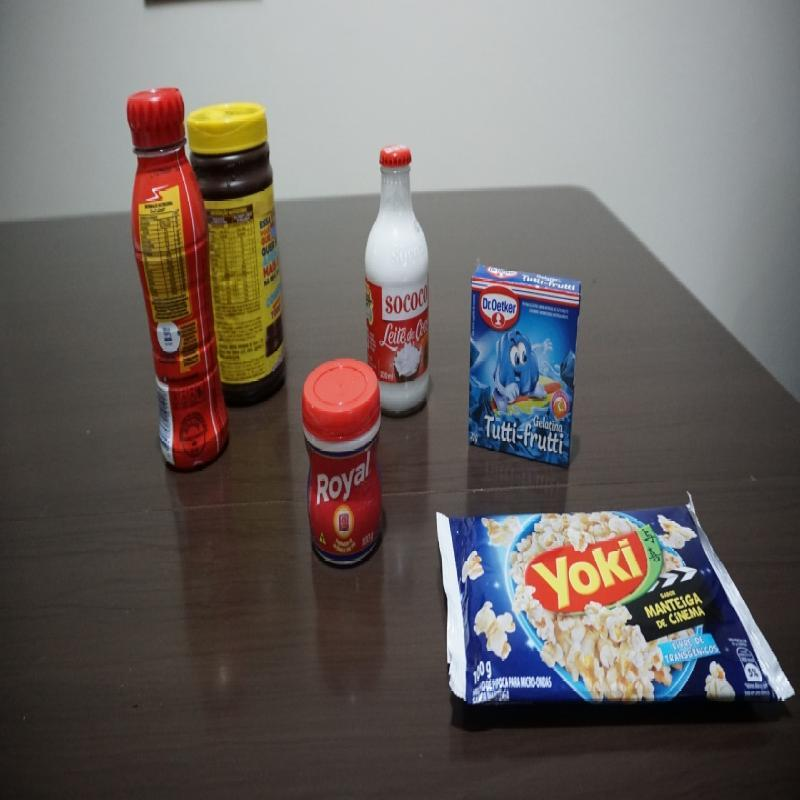Chocolate Milk: (125, 83, 231, 474)
Chocolate Powder: (185, 100, 288, 416)
Coconut Milk: (365, 144, 432, 422)
Gelatine: (465, 257, 584, 475)
Popcorn: (436, 489, 795, 709)
Yeast: (302, 357, 386, 569)
